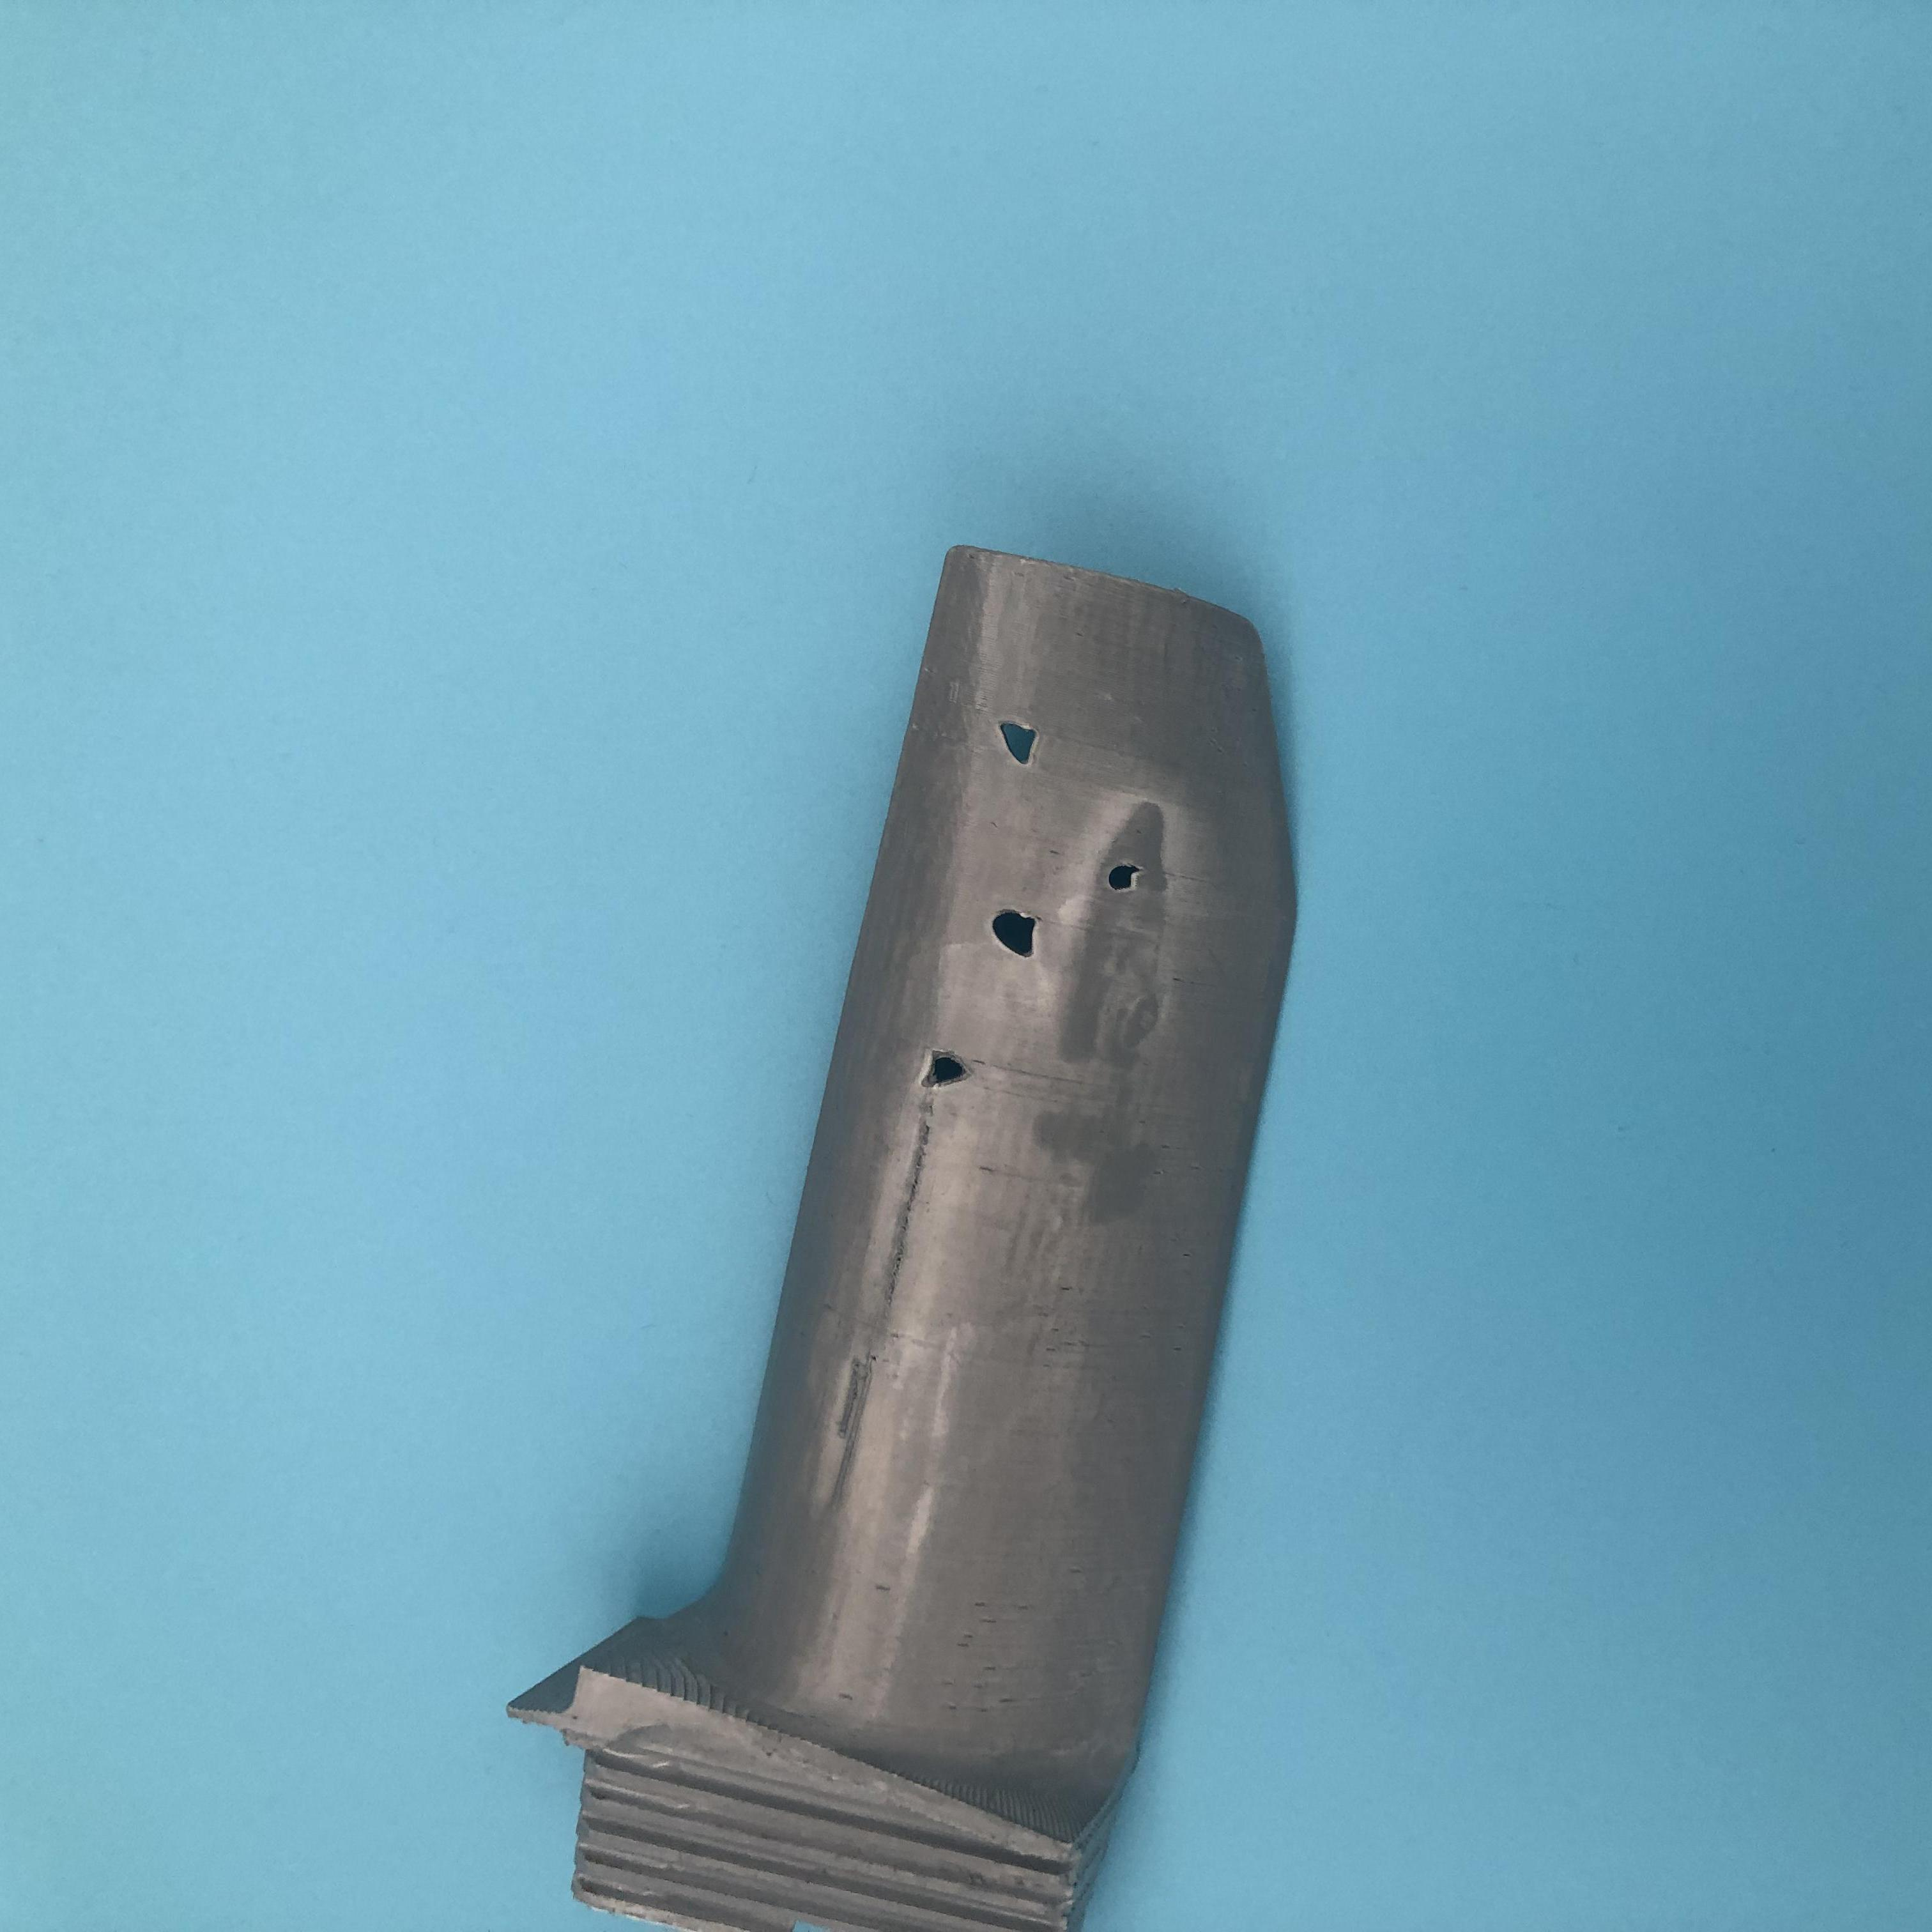breakdown: (916, 706, 1164, 1102)
